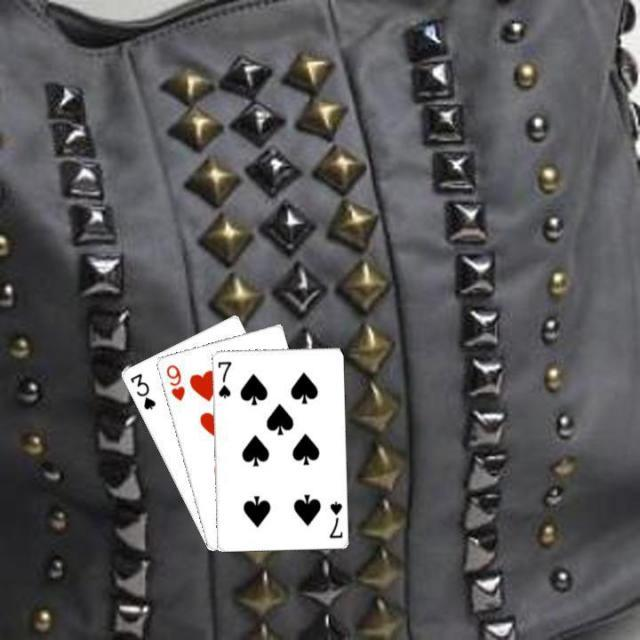3S: (127, 370, 158, 412)
7S: (213, 357, 233, 399), (325, 497, 343, 539)
9H: (162, 360, 187, 402)
